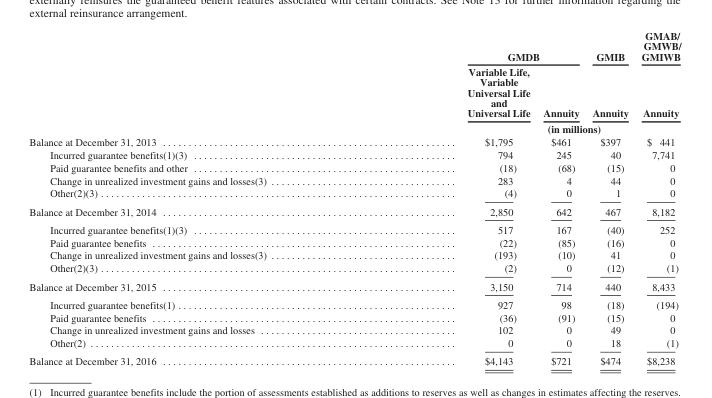table: (28, 29, 680, 366)
table column: (28, 29, 366, 366), (366, 29, 536, 366), (536, 29, 585, 366), (585, 29, 634, 366), (634, 29, 680, 366)
table column header: (28, 29, 680, 134)
table row: (28, 63, 680, 120), (28, 29, 680, 63), (28, 276, 680, 295), (28, 202, 680, 220), (28, 186, 680, 202), (28, 220, 680, 235), (28, 261, 680, 276), (28, 295, 680, 310), (28, 336, 680, 351), (28, 351, 680, 366), (28, 120, 680, 134), (28, 134, 680, 147), (28, 147, 680, 160), (28, 160, 680, 173), (28, 173, 680, 186), (28, 235, 680, 248), (28, 248, 680, 261), (28, 310, 680, 323), (28, 323, 680, 336)
table spanning cell: (366, 29, 585, 63), (585, 29, 634, 120), (366, 120, 680, 134), (634, 29, 680, 120)
